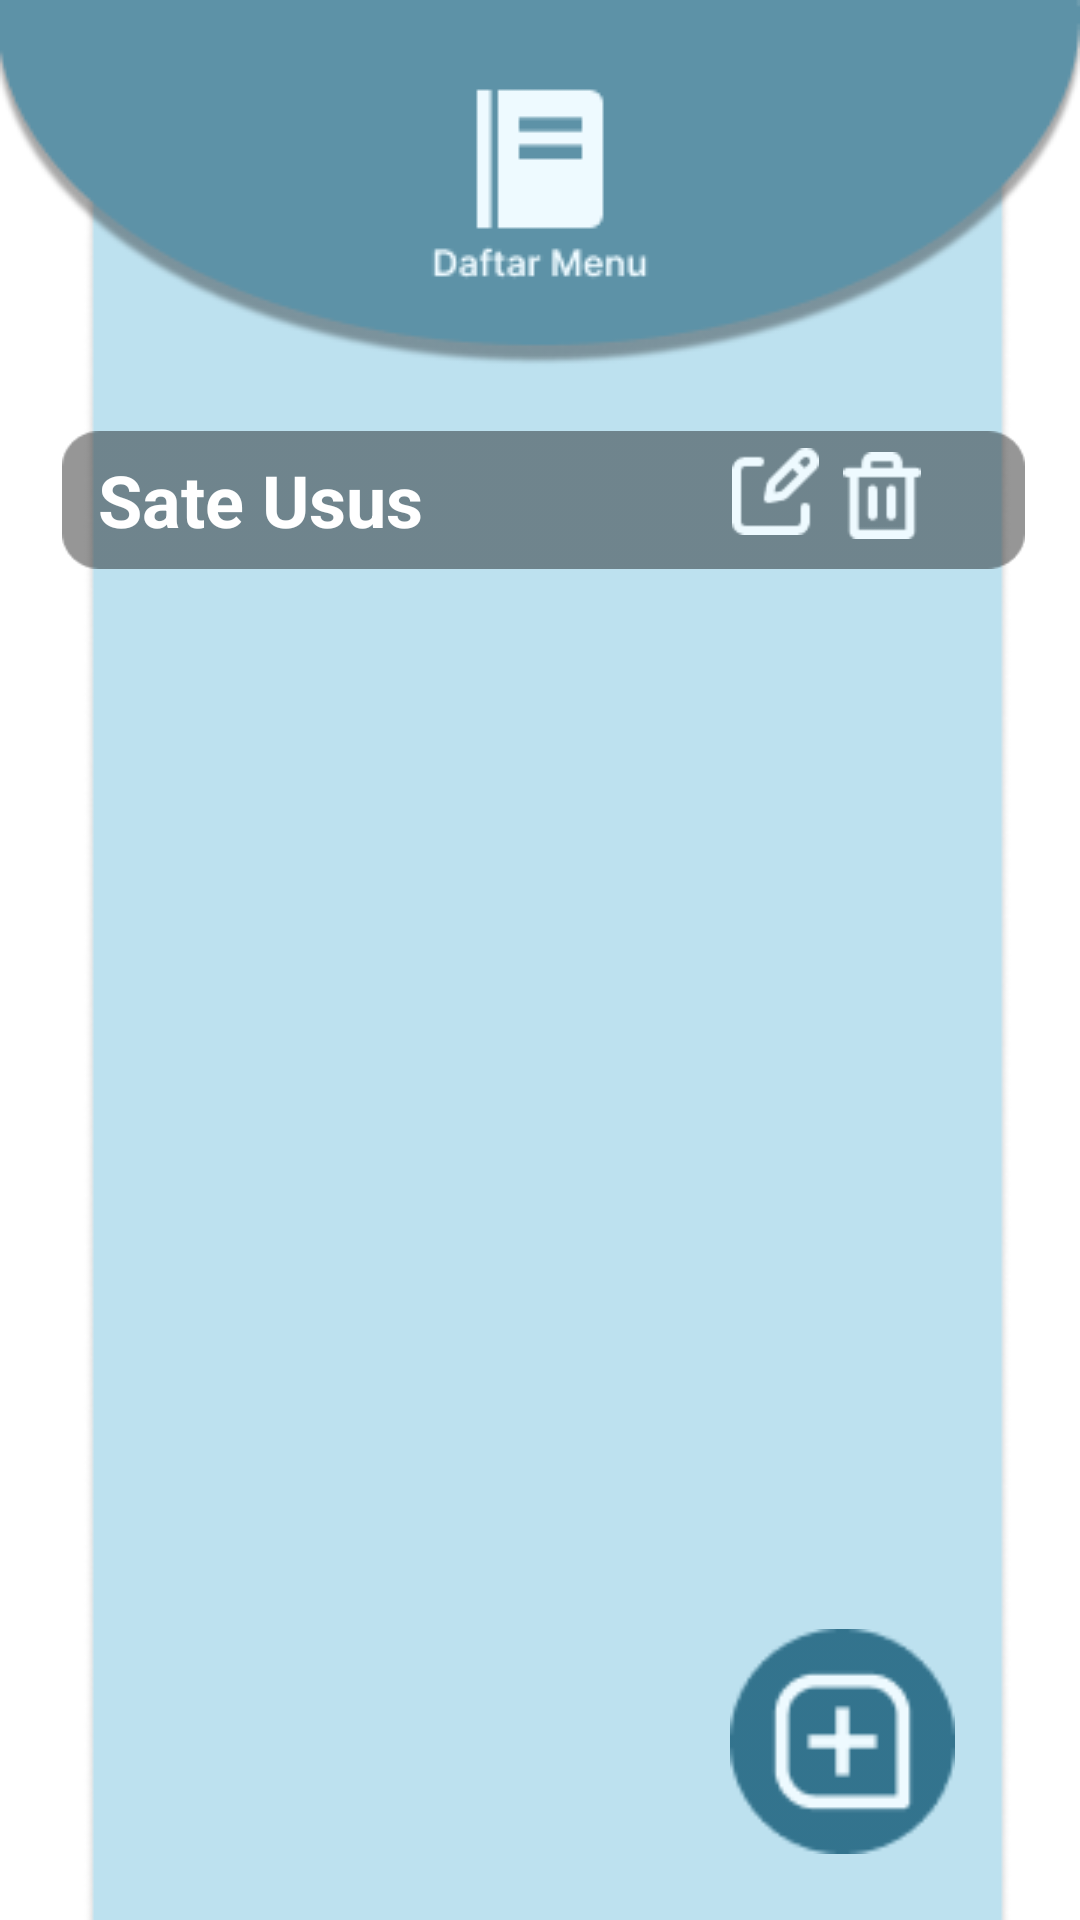

Icons on this 1080 x 1920 Android screen, each with its box as BBox(x1, y1, x2, y2):
addmenu: BBox(730, 1629, 955, 1854)
delete: BBox(843, 452, 921, 539)
edit: BBox(732, 448, 819, 535)
